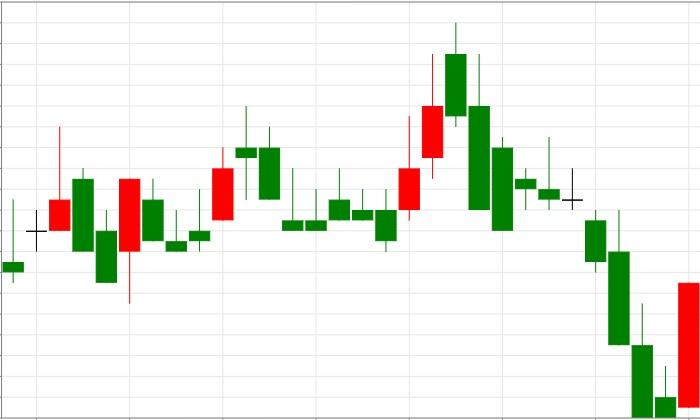shooting_star_fall: (1, 126, 72, 282)
